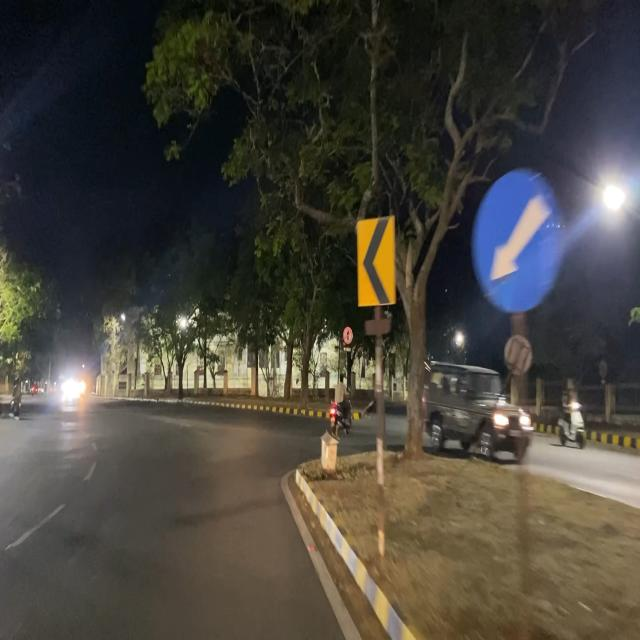bien_cam: (472, 169, 563, 313)
